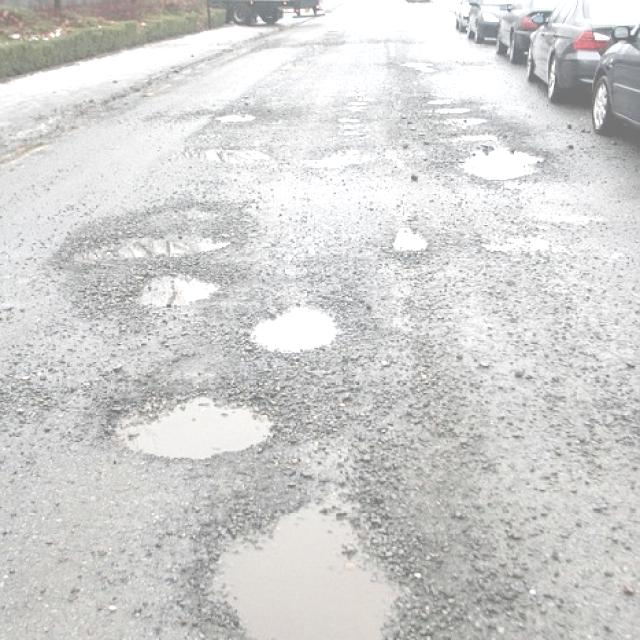Pothole: (51, 190, 439, 640), (394, 55, 550, 202)
